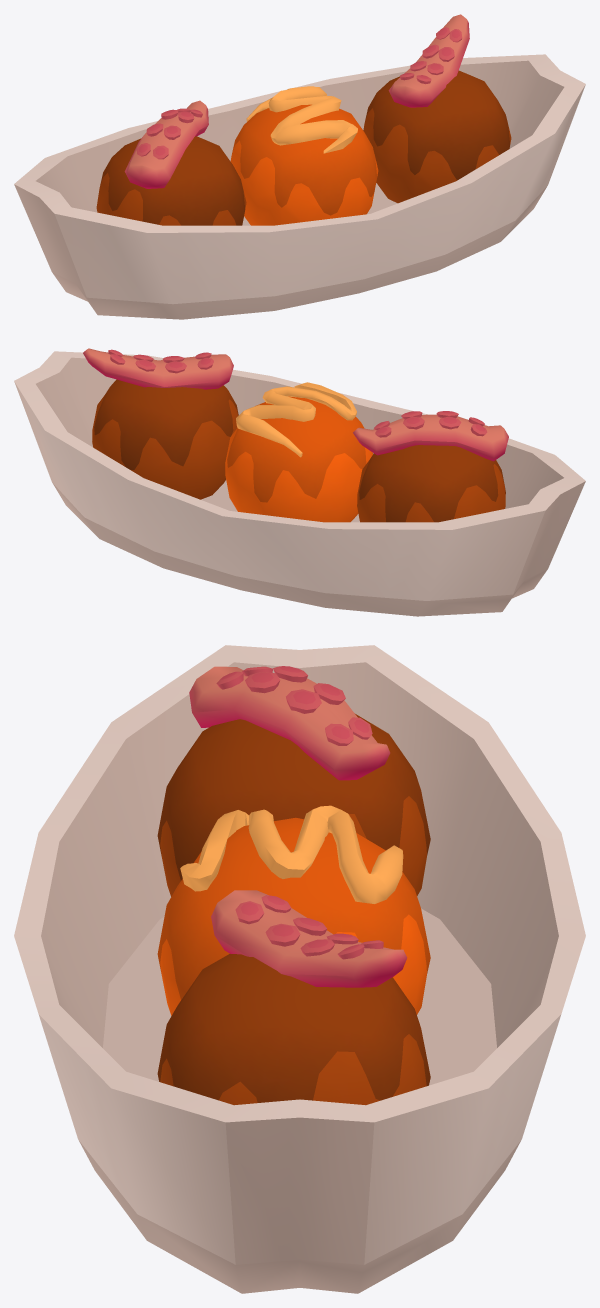
Rendered from tacoyaki.glb.
3 renders of one model, top to bottom at view 1: azimuth 30°, elevation 25°; view 2: azimuth 150°, elevation 25°; view 3: azimuth 270°, elevation 25°, orthographic. The views are drawn at different scales.
Visible parts, largest first — view 1: F_Asia_Takoyaki_Small_LOD0_streetFood_0; view 2: F_Asia_Takoyaki_Small_LOD0_streetFood_0; view 3: F_Asia_Takoyaki_Small_LOD0_streetFood_0.
Part boxes in pixels (bbox=[...]): F_Asia_Takoyaki_Small_LOD0_streetFood_0: bbox=[14, 14, 585, 319]; F_Asia_Takoyaki_Small_LOD0_streetFood_0: bbox=[14, 348, 585, 616]; F_Asia_Takoyaki_Small_LOD0_streetFood_0: bbox=[14, 645, 585, 1293].
Size of the model in its own units: 0.3259 by 0.1005 by 0.1651.
1 material, 1 textured.
